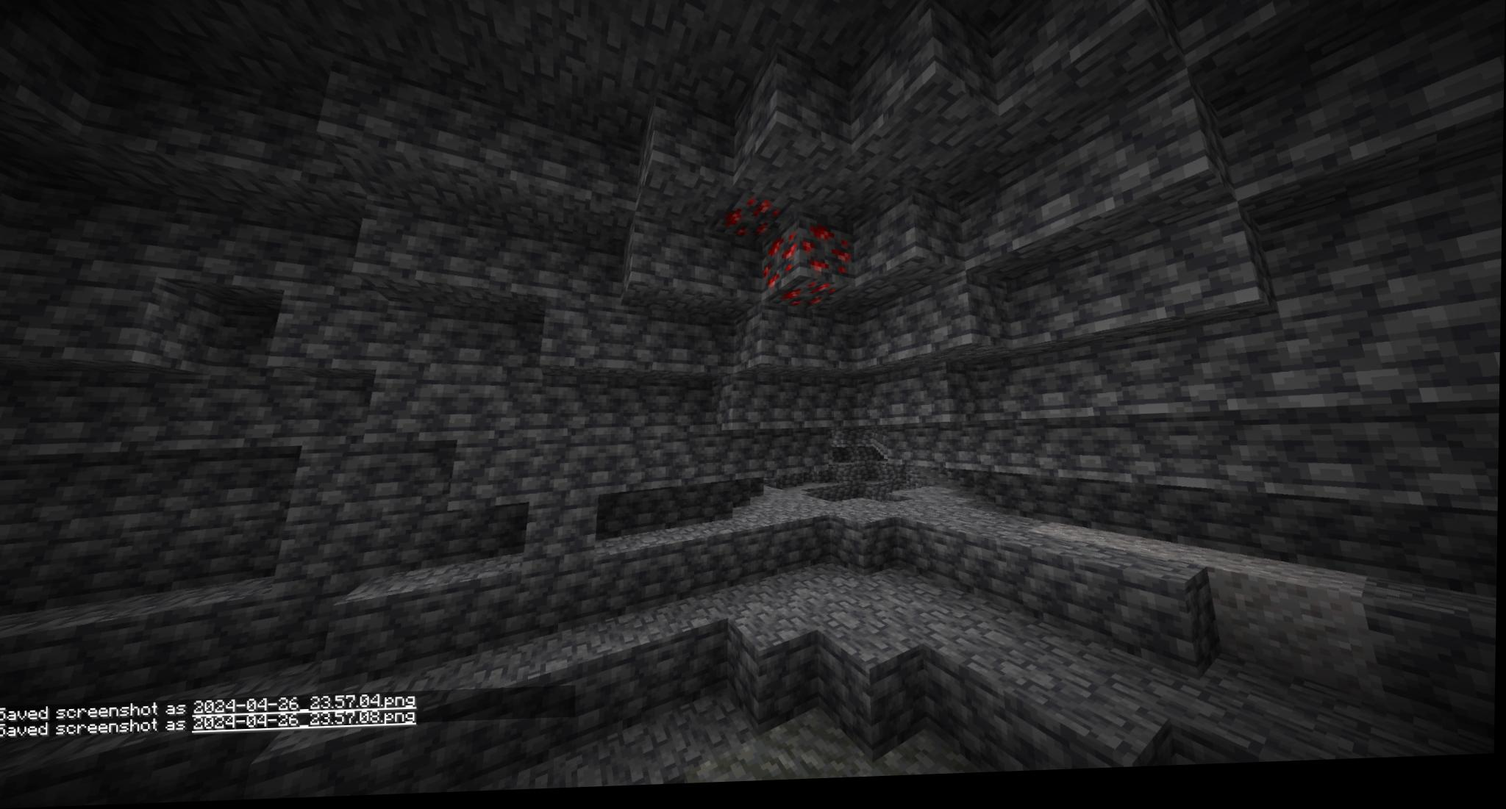redstone ore: (767, 226, 853, 312), (718, 195, 786, 252)
